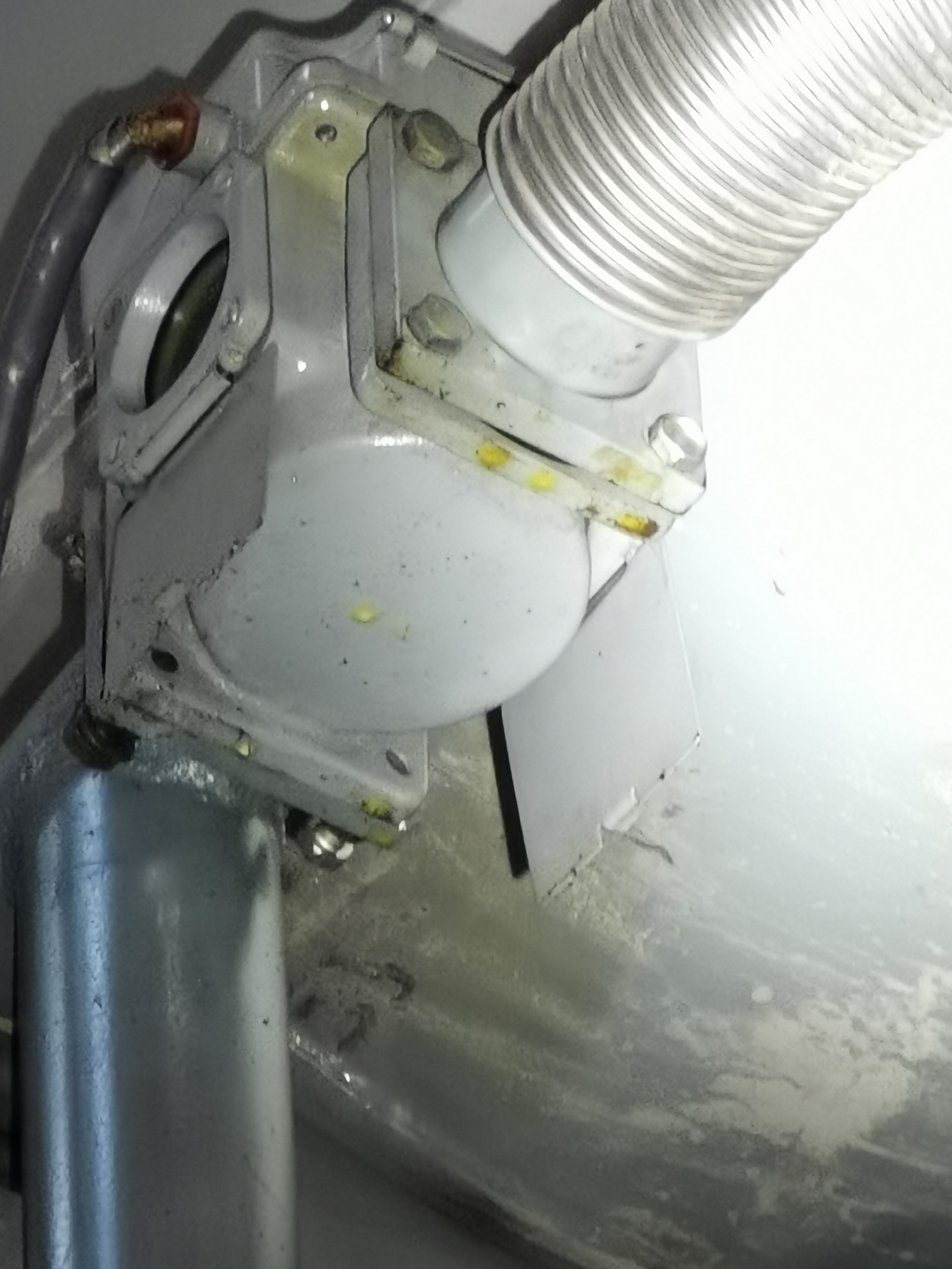cysb_qtjdq: (35, 1, 705, 871)
sly_bjbmyw: (72, 372, 707, 870)
